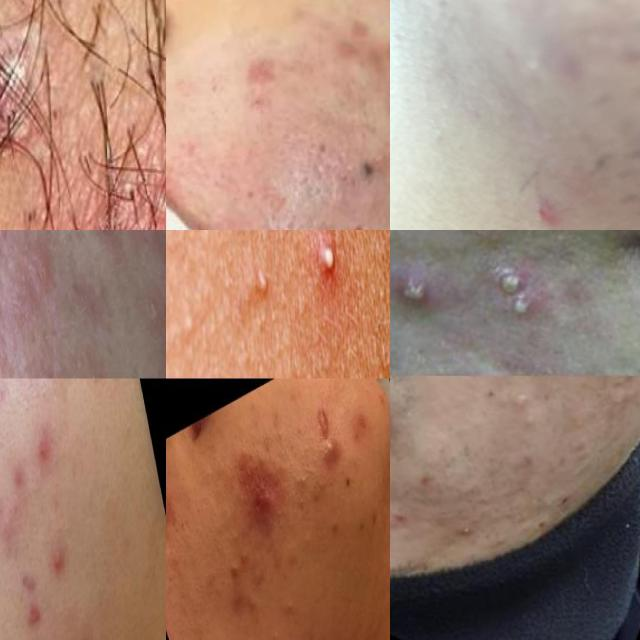acne_scars: (311, 3, 390, 77), (239, 42, 293, 91), (307, 399, 339, 446)
comedone: (489, 378, 555, 453), (275, 579, 306, 626), (296, 521, 320, 561), (291, 493, 314, 528), (225, 552, 243, 588), (236, 543, 258, 572), (295, 463, 313, 496), (262, 615, 285, 640)
folliculitis: (0, 0, 30, 188)
papule: (236, 465, 285, 537), (11, 556, 48, 640), (349, 137, 390, 188), (166, 464, 188, 548), (29, 417, 55, 479), (44, 527, 70, 587), (312, 433, 347, 474), (4, 451, 31, 504)
pustule: (468, 236, 567, 331), (390, 254, 445, 323), (243, 245, 288, 324), (311, 230, 348, 295)
sebo-crystan-conglo: (143, 256, 166, 379), (117, 230, 165, 254)
